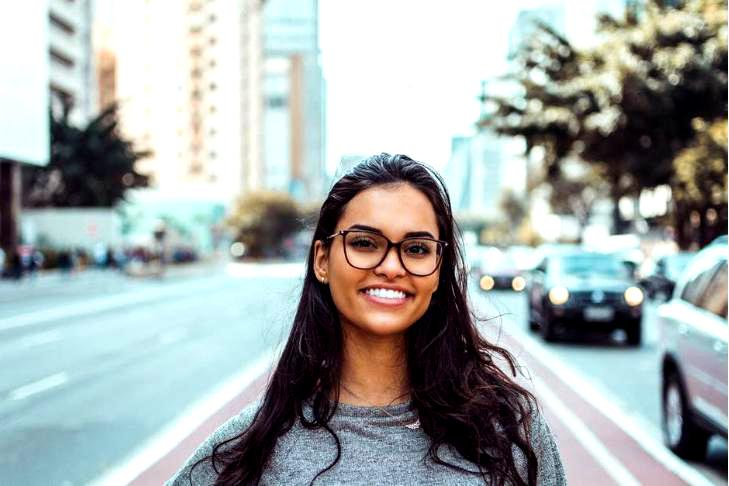face: (327, 185, 439, 334)
